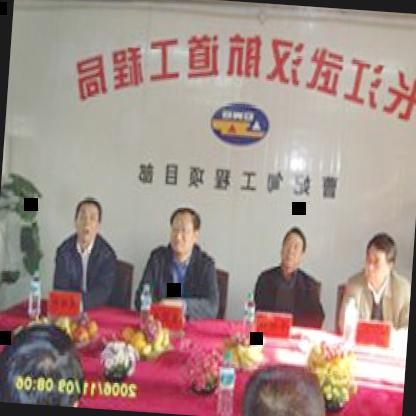head: (0, 309, 90, 407), (231, 349, 340, 416), (163, 199, 206, 262), (361, 227, 398, 294), (70, 190, 108, 248), (278, 222, 310, 278)
